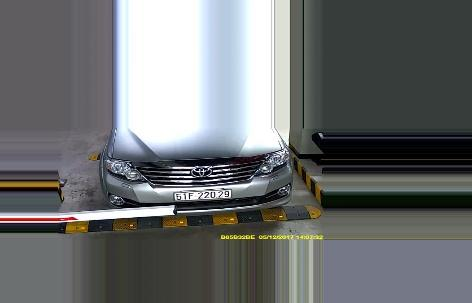plate: (174, 188, 231, 201)
